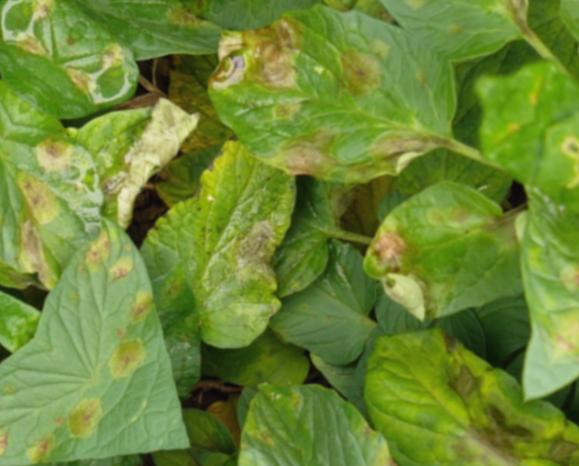Tomato Early blight leaf: (185, 0, 478, 228), (100, 125, 348, 392), (349, 137, 558, 355), (305, 297, 528, 466), (204, 343, 473, 466), (0, 99, 139, 297)
